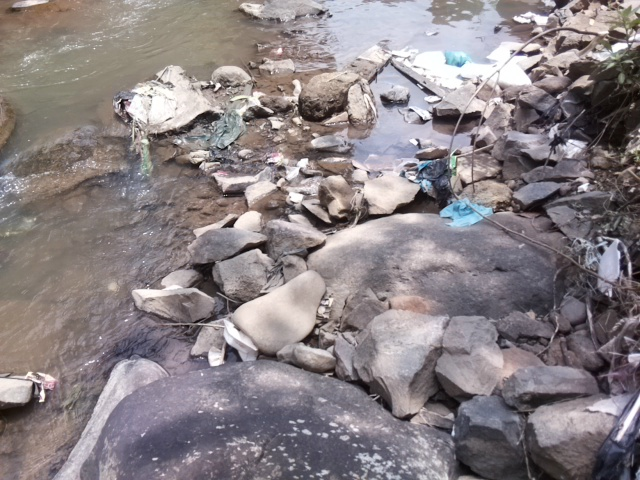Sampah_Plastik: (412, 157, 454, 204), (441, 195, 492, 231), (445, 48, 470, 66)
Sampah_Styrofoam: (218, 317, 260, 362)
